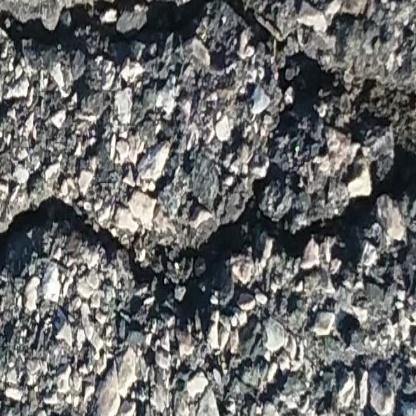Cracks: (0, 114, 416, 322), (0, 0, 374, 120)
